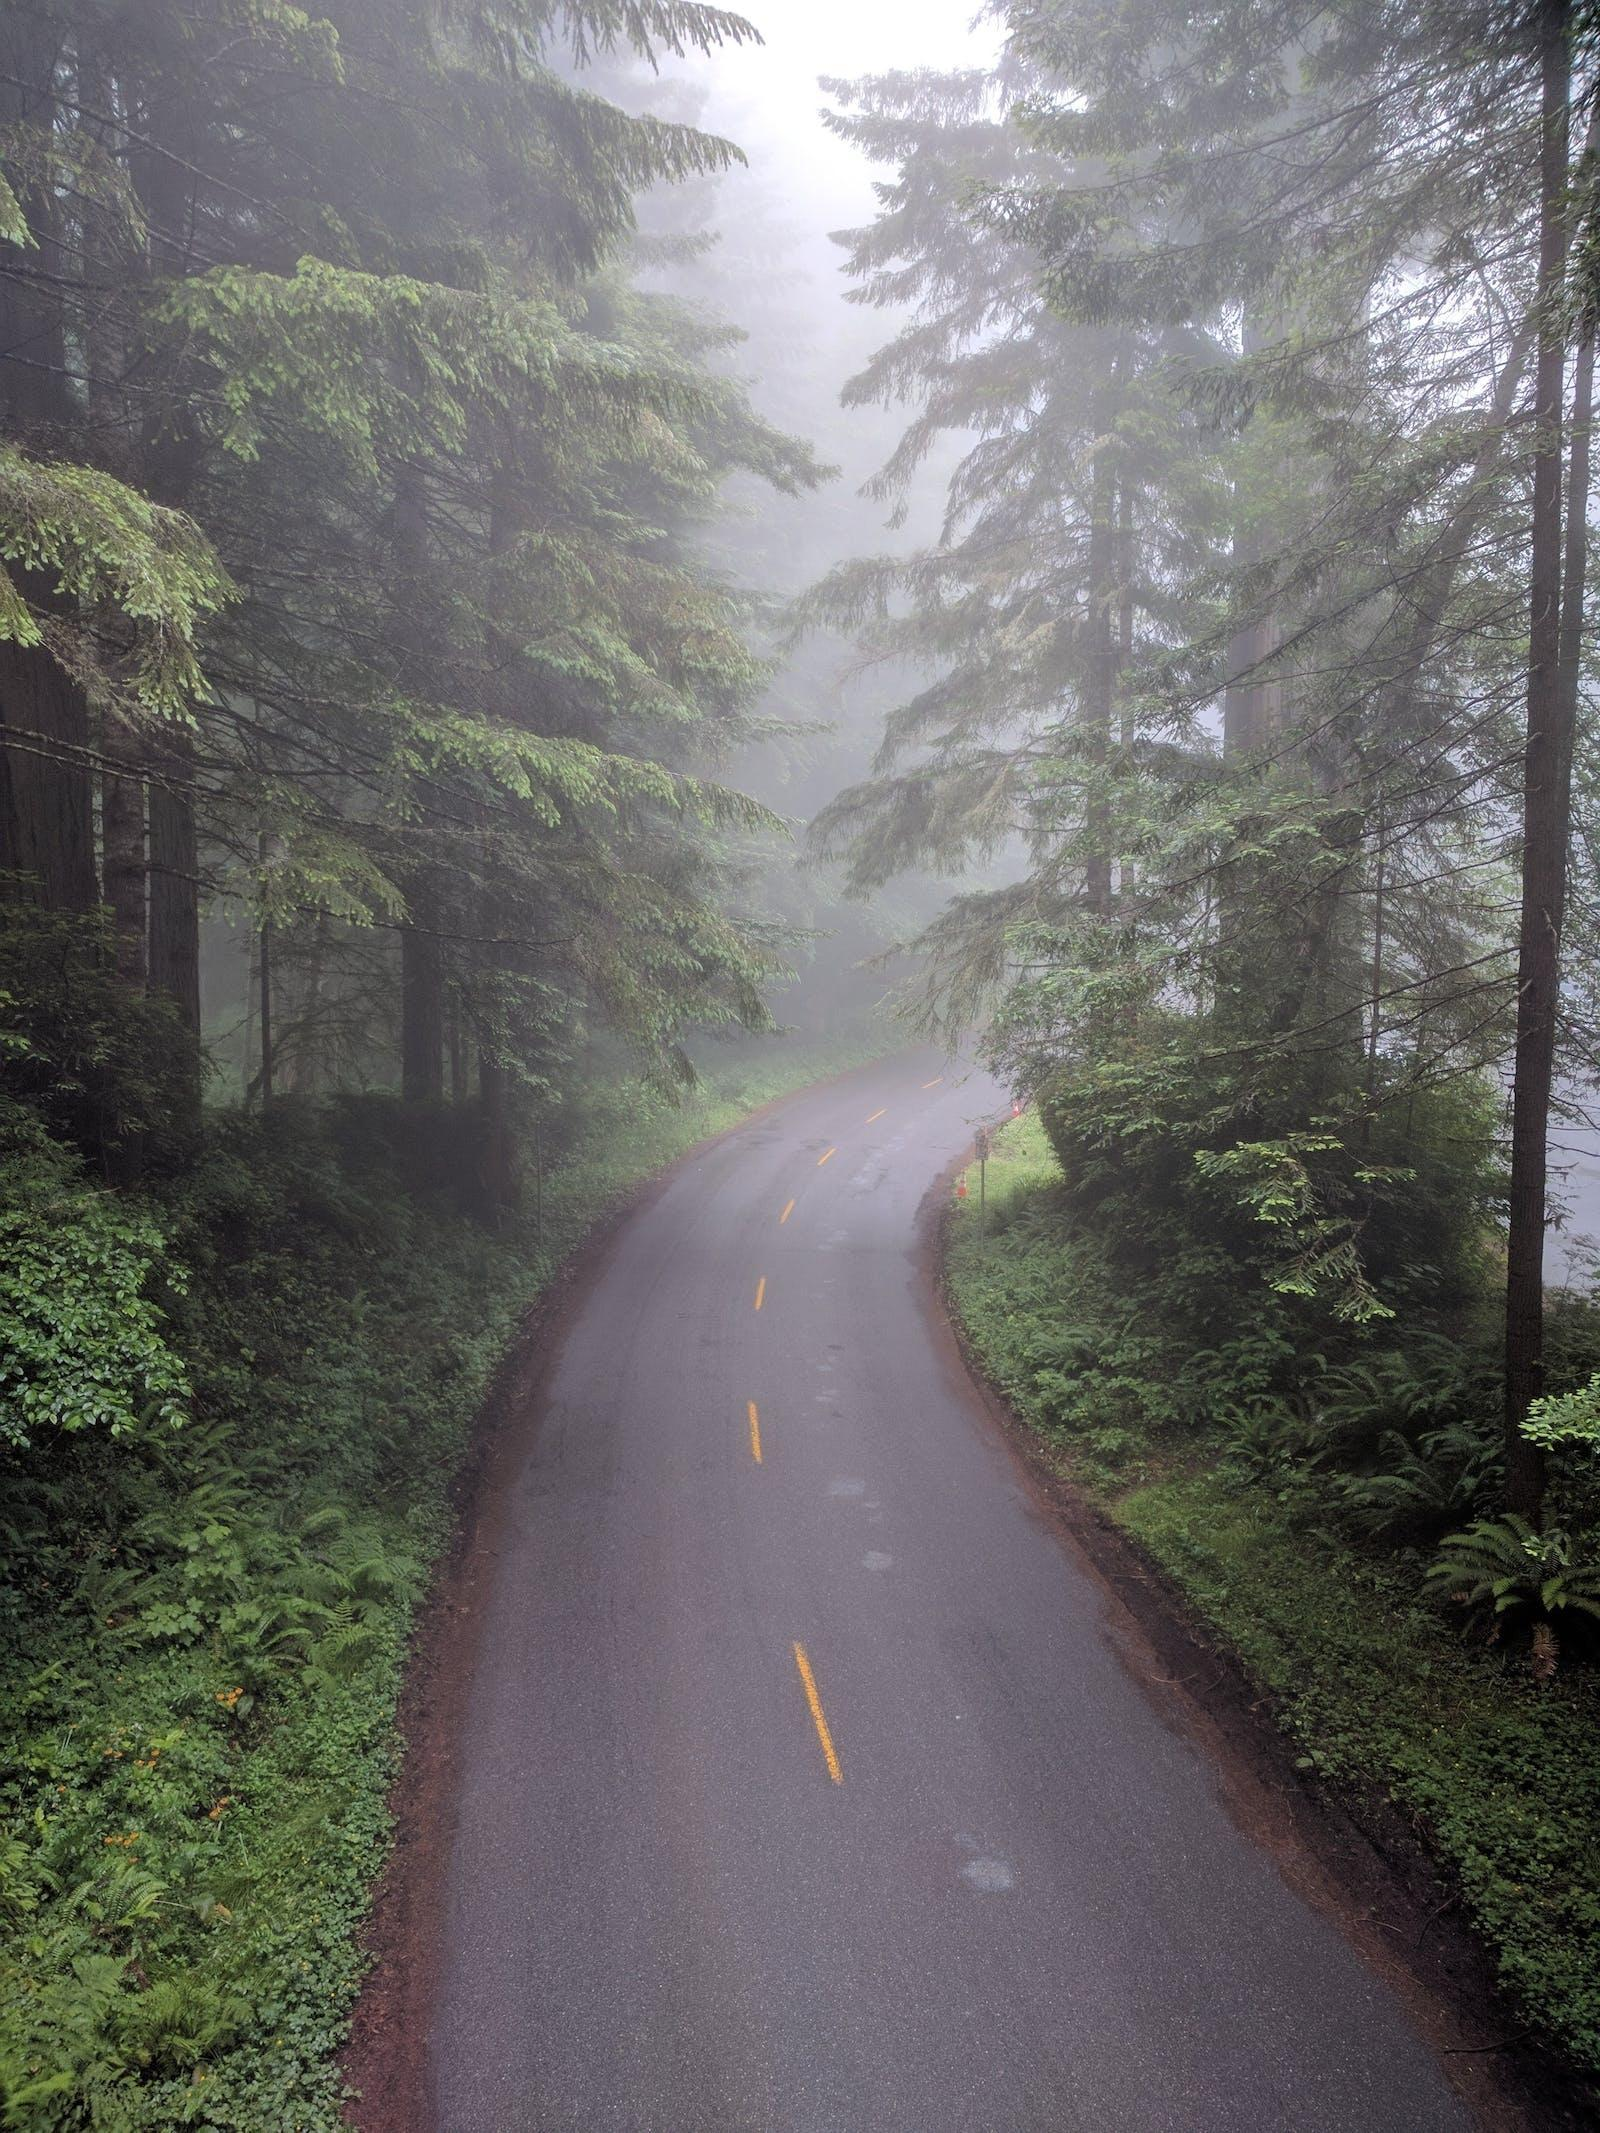field: (948, 1113, 1597, 2071)
road: (355, 1049, 1484, 2131)
